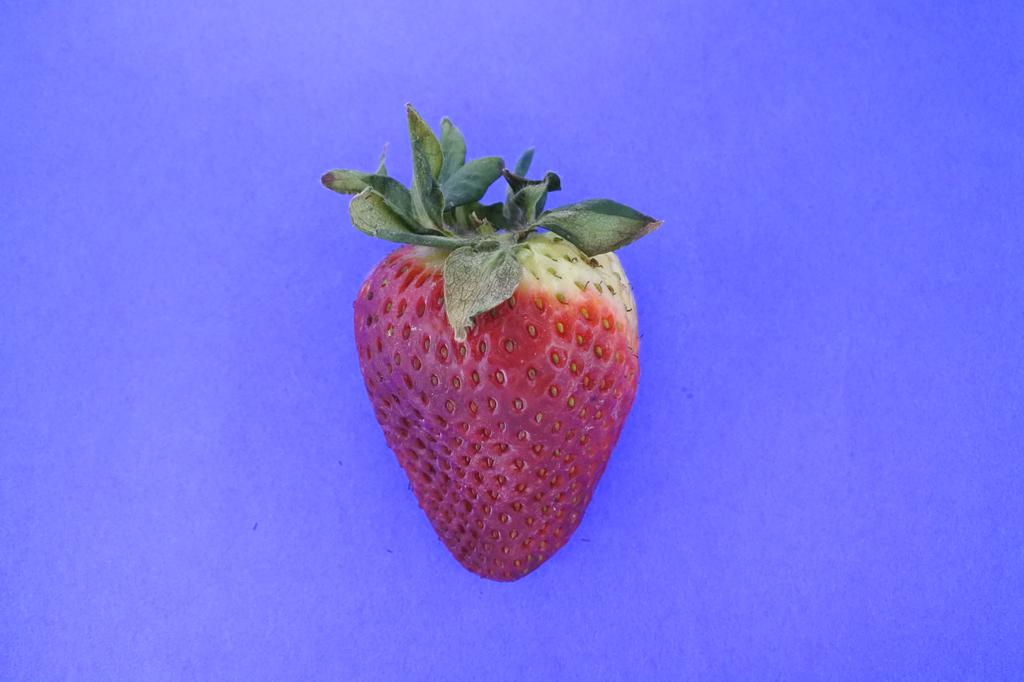red strawberry: (318, 102, 662, 584)
